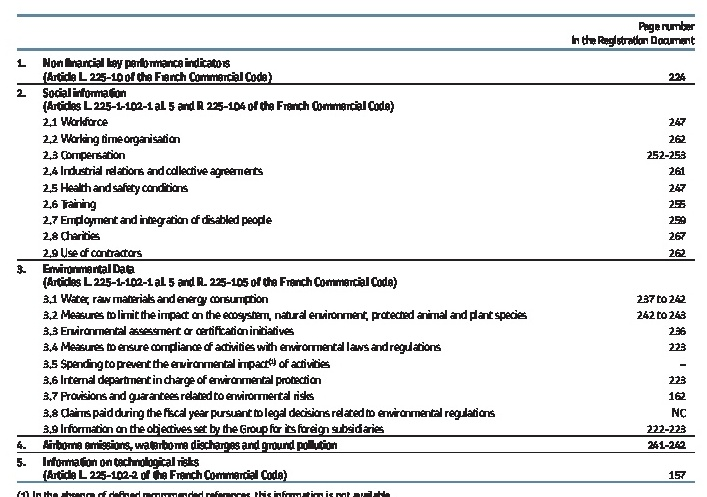table: (0, 0, 707, 497)
